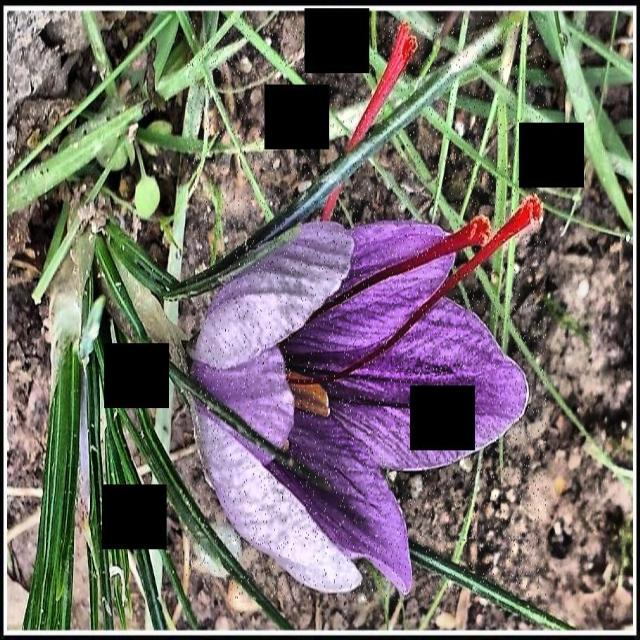Flower: (191, 219, 529, 596)
stigma: (286, 192, 545, 388), (308, 215, 493, 325), (322, 19, 420, 223)
